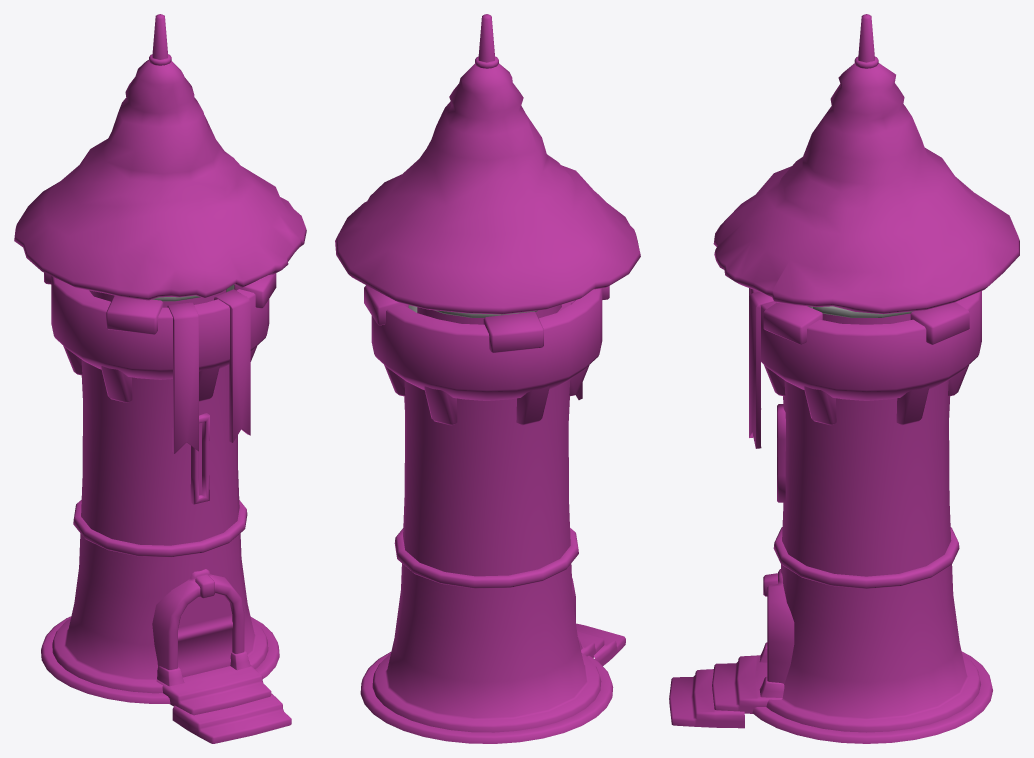
The model's file is SM_MidTower.FBX.
The picture shows the model from 3 angles, left to right: view 1: azimuth 30°, elevation 25°; view 2: azimuth 150°, elevation 25°; view 3: azimuth 270°, elevation 25°; orthographic projection. The views are drawn at different scales.
Visible parts, largest first — view 1: Cylinder018; view 2: Cylinder018; view 3: Cylinder018.
Boxes of the visible parts, x1,y1,x2,y2 form: Cylinder018: (14,14,306,743); Cylinder018: (335,14,640,743); Cylinder018: (669,14,1019,743).
Bounding box in the file's own units: 770 × 1909 × 880.
